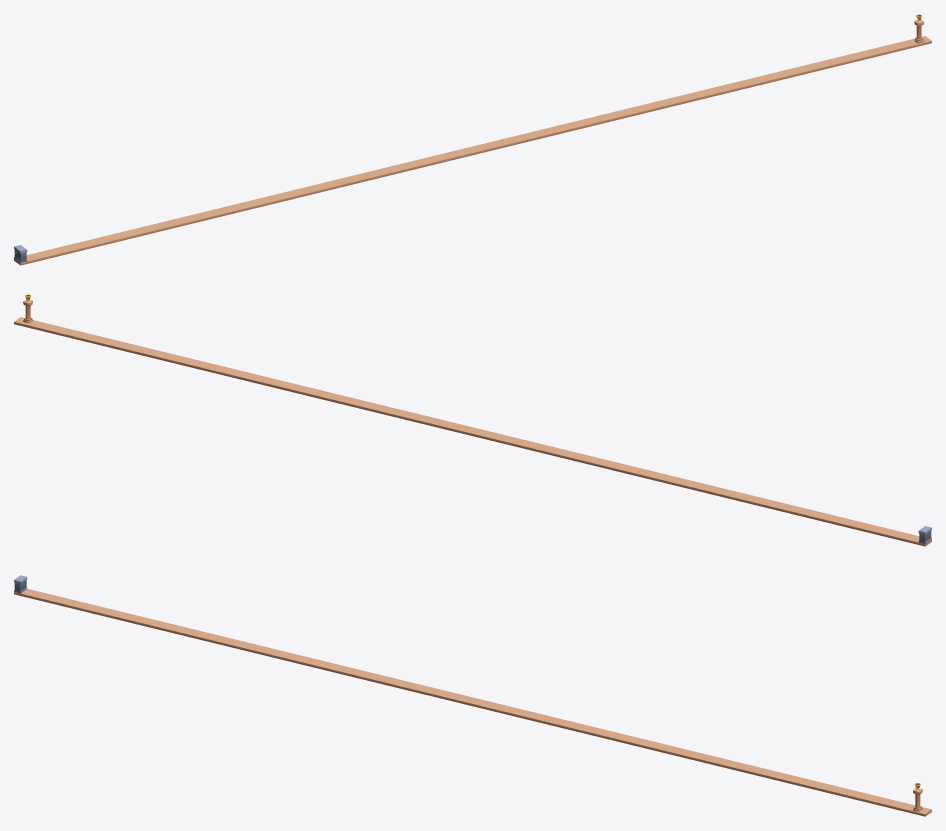
File: platform-border.glb
3 renders of one model, top to bottom at view 1: azimuth 30°, elevation 25°; view 2: azimuth 150°, elevation 25°; view 3: azimuth 330°, elevation 25°, orthographic.
Parts seen in each view (by area): view 1: border; view 2: border; view 3: border.
Boxes of the visible parts, box(x1,y1,x2,y2) form: border: box(14, 14, 931, 265); border: box(14, 294, 931, 546); border: box(14, 575, 931, 816).
Size of the model in its own units: 81.2 by 2.39 by 1.03.
Materials: 1 (1 with a texture image).
